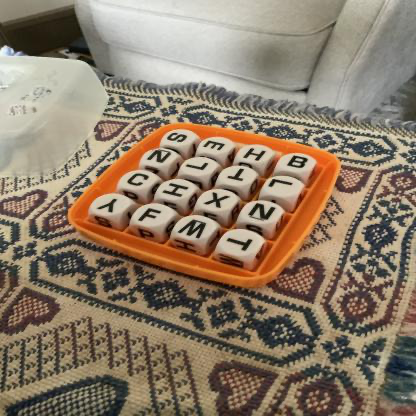b: (280, 154, 316, 174)
c: (122, 171, 158, 191)
e: (200, 138, 235, 155)
f: (134, 204, 174, 228)
h: (160, 180, 197, 201), (238, 146, 275, 164)
l: (264, 177, 304, 197), (182, 158, 219, 177)
n: (244, 202, 283, 225), (142, 149, 179, 168)
s: (163, 130, 196, 147)
t: (222, 230, 263, 256), (220, 166, 257, 186)
w: (176, 216, 218, 241)
x: (199, 190, 239, 212)
y: (92, 195, 131, 216)
